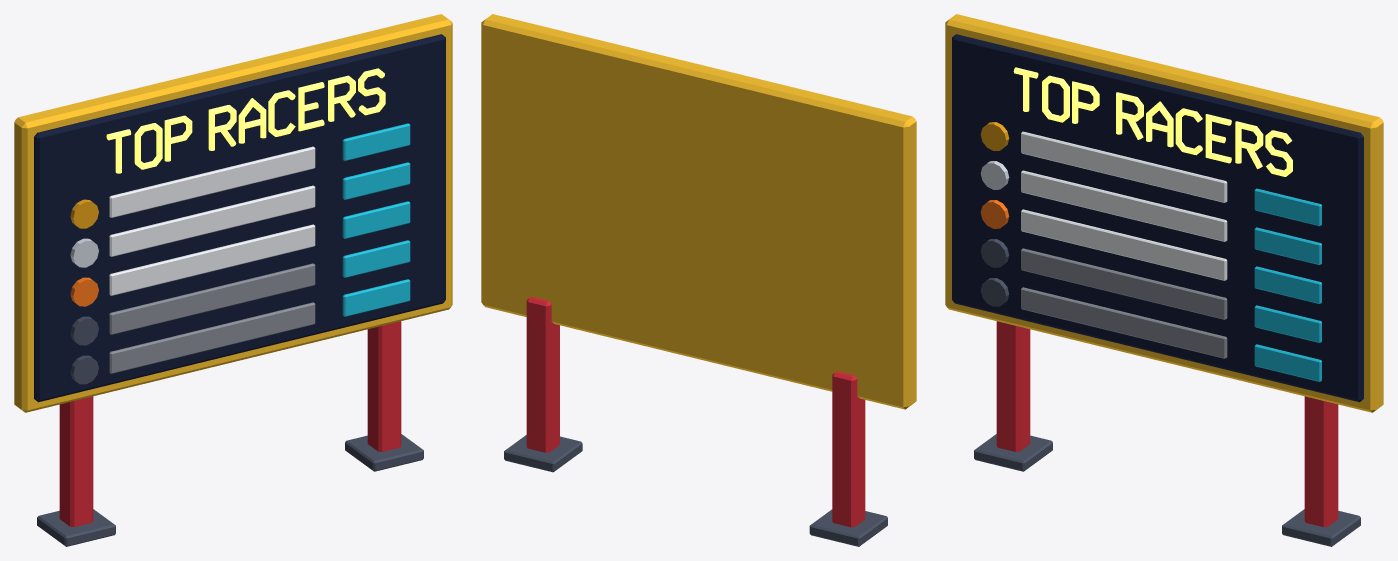
The model's file is Leaderboard.fbx.
3 views of the same model, side by side, from view 1: azimuth 30°, elevation 25°; view 2: azimuth 150°, elevation 25°; view 3: azimuth 330°, elevation 25° (orthographic).
Parts seen in each view (by area): view 1: Leaderboard, Neon_Yellow; view 2: Leaderboard; view 3: Leaderboard, Neon_Yellow.
Part boxes in pixels (x1=…): Leaderboard: x1=14, y1=14, x2=452, y2=546; Neon_Yellow: x1=106, y1=68, x2=385, y2=173; Leaderboard: x1=481, y1=14, x2=916, y2=546; Leaderboard: x1=945, y1=14, x2=1383, y2=546; Neon_Yellow: x1=1013, y1=67, x2=1292, y2=176.
Bounding box in the file's own units: 16.8 × 15.9 × 2.11.
Materials: 2 (1 with a texture image).
